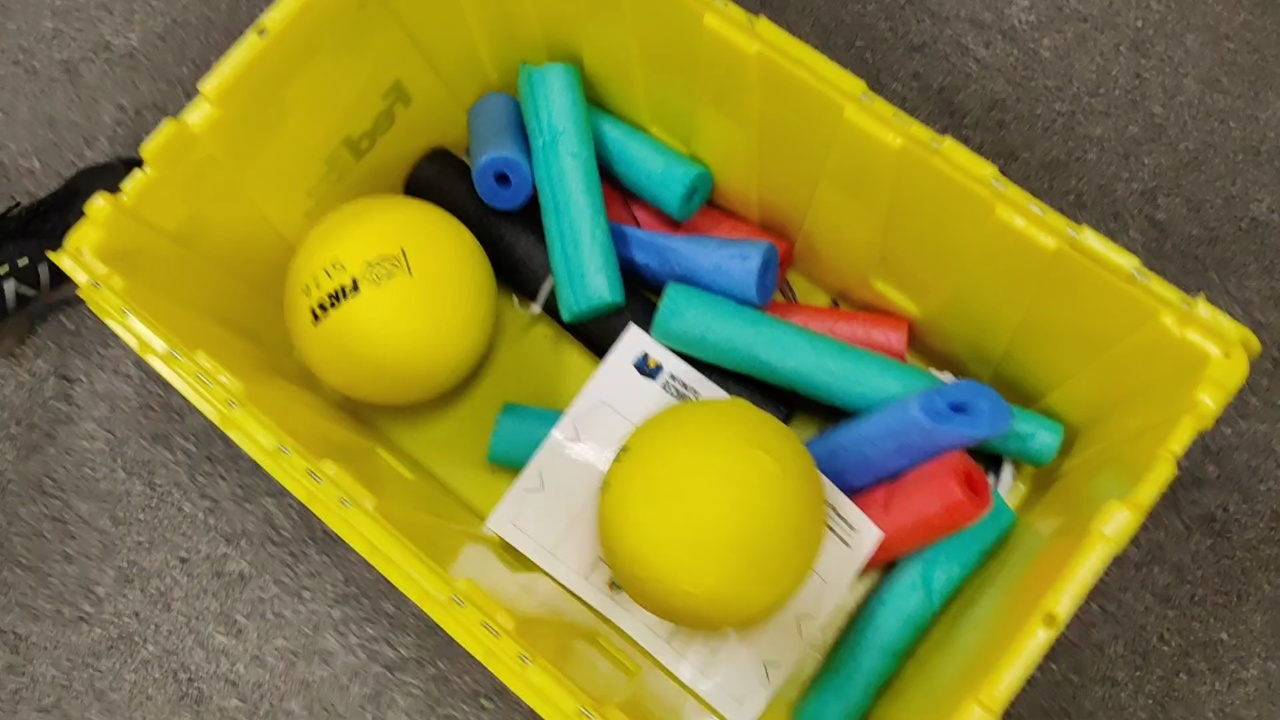Ball: (592, 400, 826, 626), (285, 197, 502, 401)
